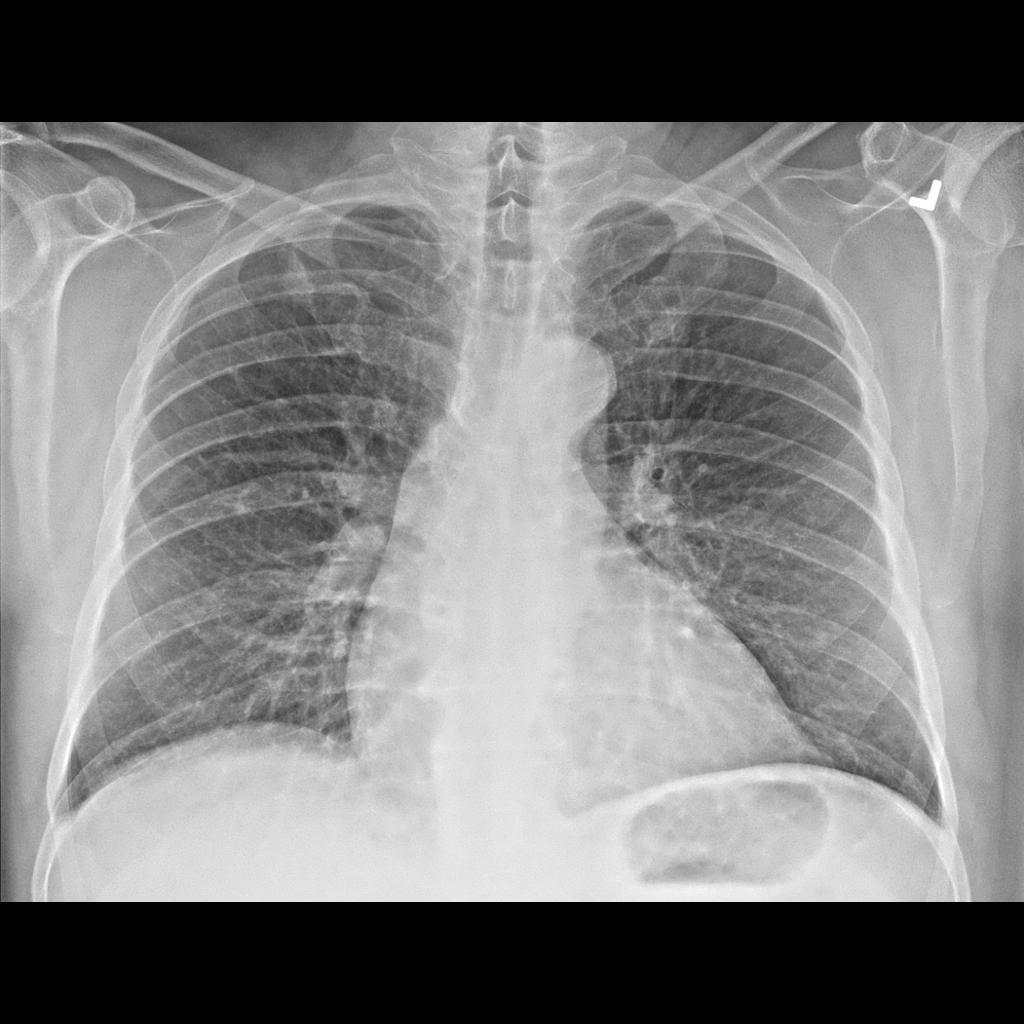Nodule: (275, 249, 320, 314)
